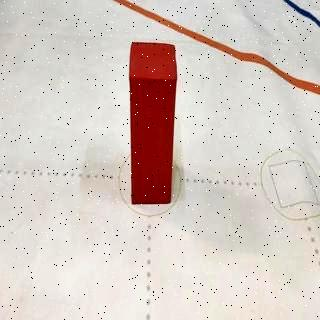redbox: (130, 42, 174, 204)
